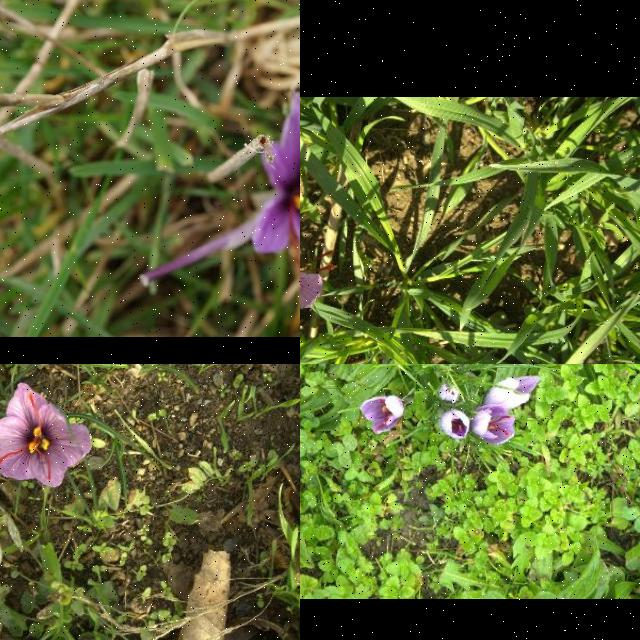flower: (253, 92, 300, 309), (0, 383, 92, 487), (300, 204, 339, 347), (484, 376, 542, 410), (472, 404, 516, 446), (362, 396, 404, 434), (440, 412, 472, 442), (438, 384, 462, 404)
